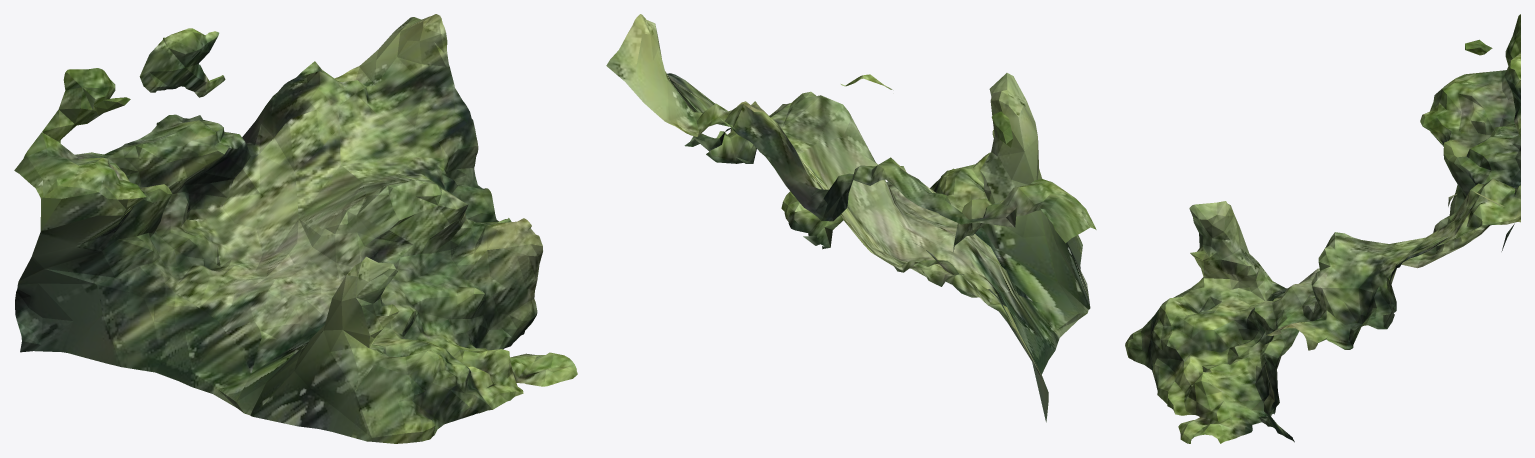
3 views of the same model, side by side, from view 1: azimuth 30°, elevation 25°; view 2: azimuth 150°, elevation 25°; view 3: azimuth 270°, elevation 25° (orthographic). The views are drawn at different scales.
Bounding box in the file's own units: 26.11 × 17.49 × 22.72.
3 materials, 3 textured.
